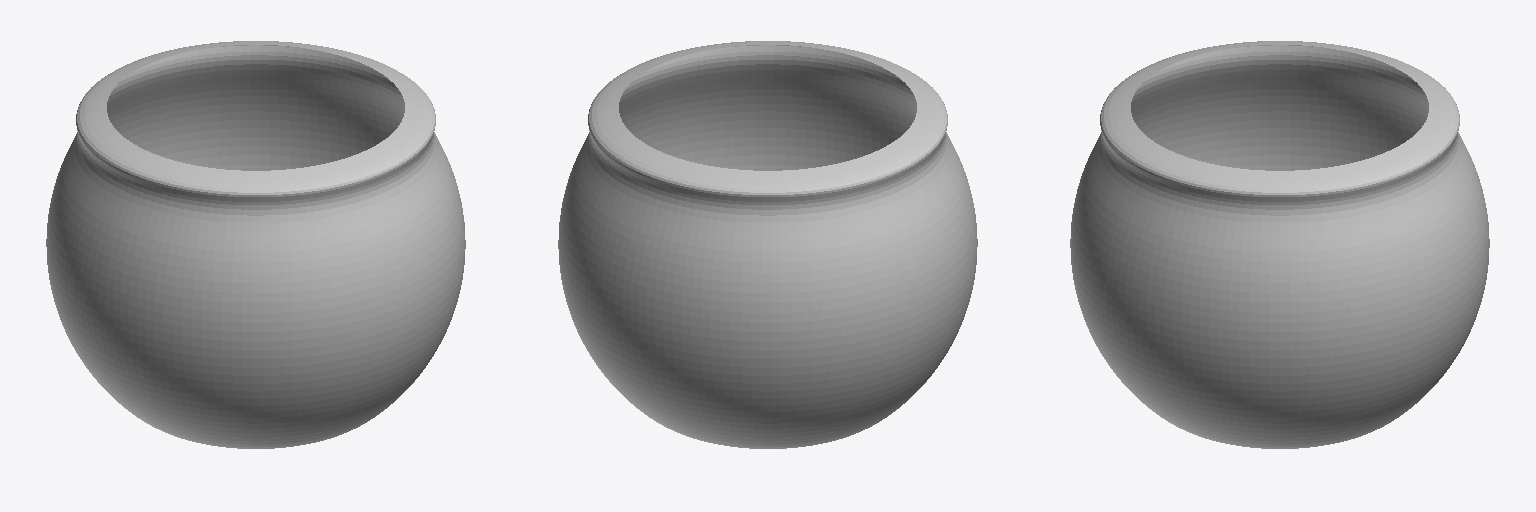
Rendered from Fishbowl.obj.
3 renders of one model, left to right at view 1: azimuth 30°, elevation 25°; view 2: azimuth 150°, elevation 25°; view 3: azimuth 270°, elevation 25°, orthographic.
Visible parts, largest first — view 1: Sphere_Sphere.001; view 2: Sphere_Sphere.001; view 3: Sphere_Sphere.001.
Part boxes in pixels (bbox=[...]): Sphere_Sphere.001: bbox=[46, 41, 465, 448]; Sphere_Sphere.001: bbox=[558, 41, 977, 448]; Sphere_Sphere.001: bbox=[1070, 41, 1489, 448].
Size of the model in its own units: 1.98 by 1.54 by 1.98.